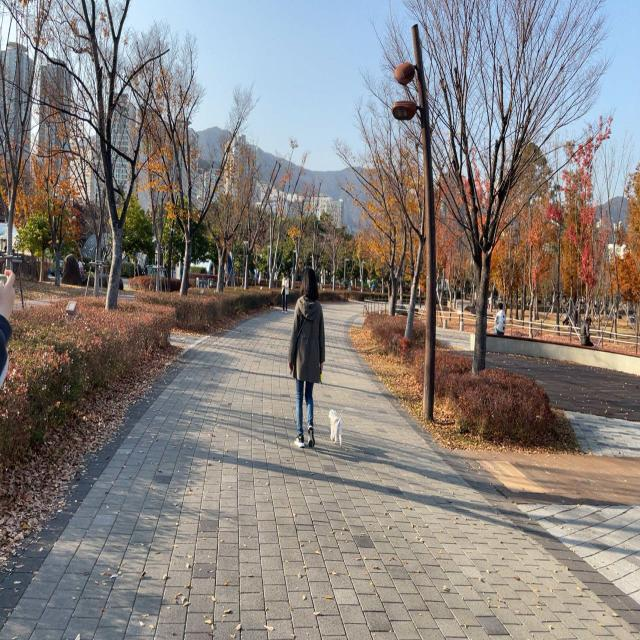Leashed_Dog: (306, 352, 343, 449)
